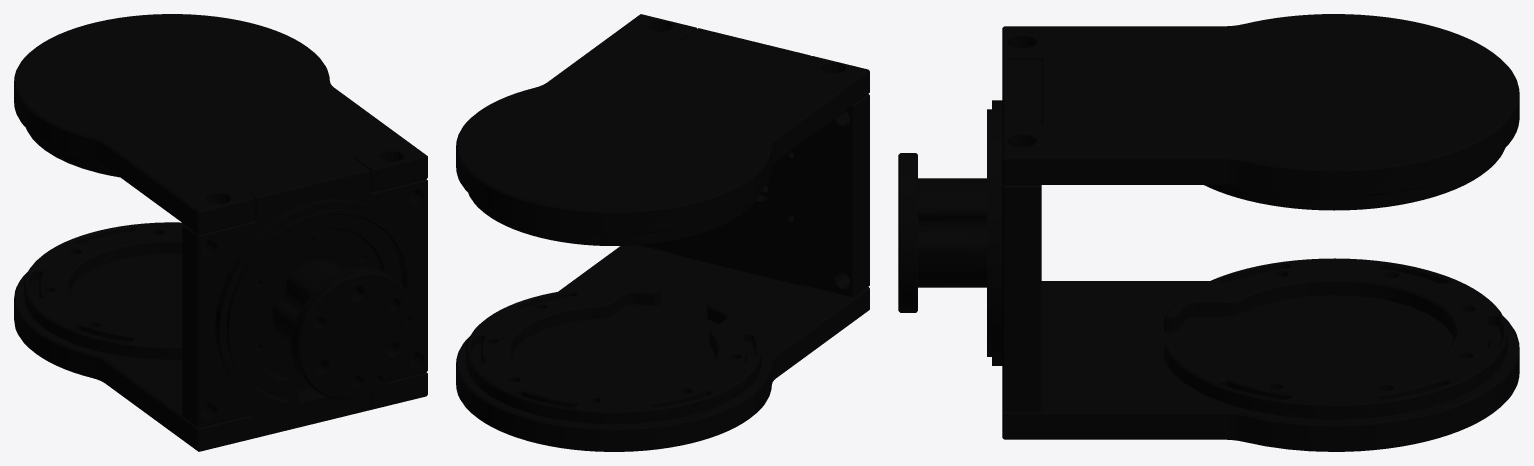
File: steer_motor_link3.obj
3 renders of one model, left to right at view 1: azimuth 30°, elevation 25°; view 2: azimuth 150°, elevation 25°; view 3: azimuth 270°, elevation 25°, orthographic. The views are drawn at different scales.
Visible parts, largest first — view 1: steer_motor_link3; view 2: steer_motor_link3; view 3: steer_motor_link3.
Boxes of the visible parts, x1,y1,x2,y2 form: steer_motor_link3: (14,14,427,451); steer_motor_link3: (456,14,869,451); steer_motor_link3: (898,14,1519,451).
Bounding box in the file's own units: 0.0949 × 0.08 × 0.1591.
Materials: 1 (1 with a texture image).
